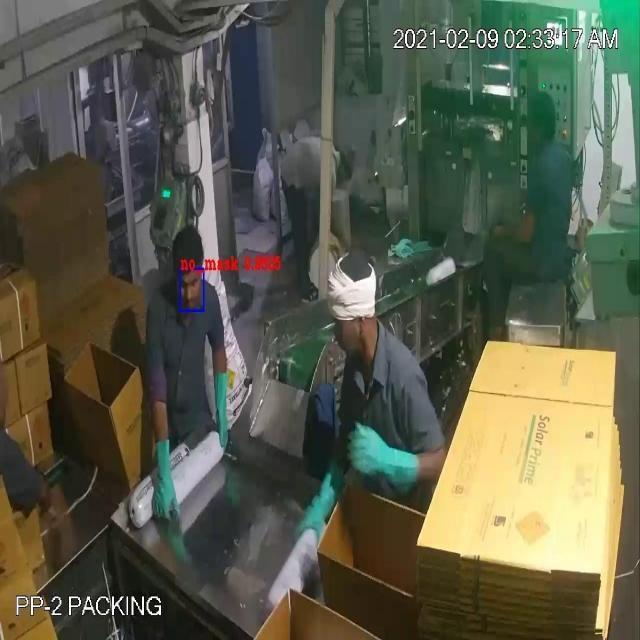Gloves: (40, 55, 512, 506)
